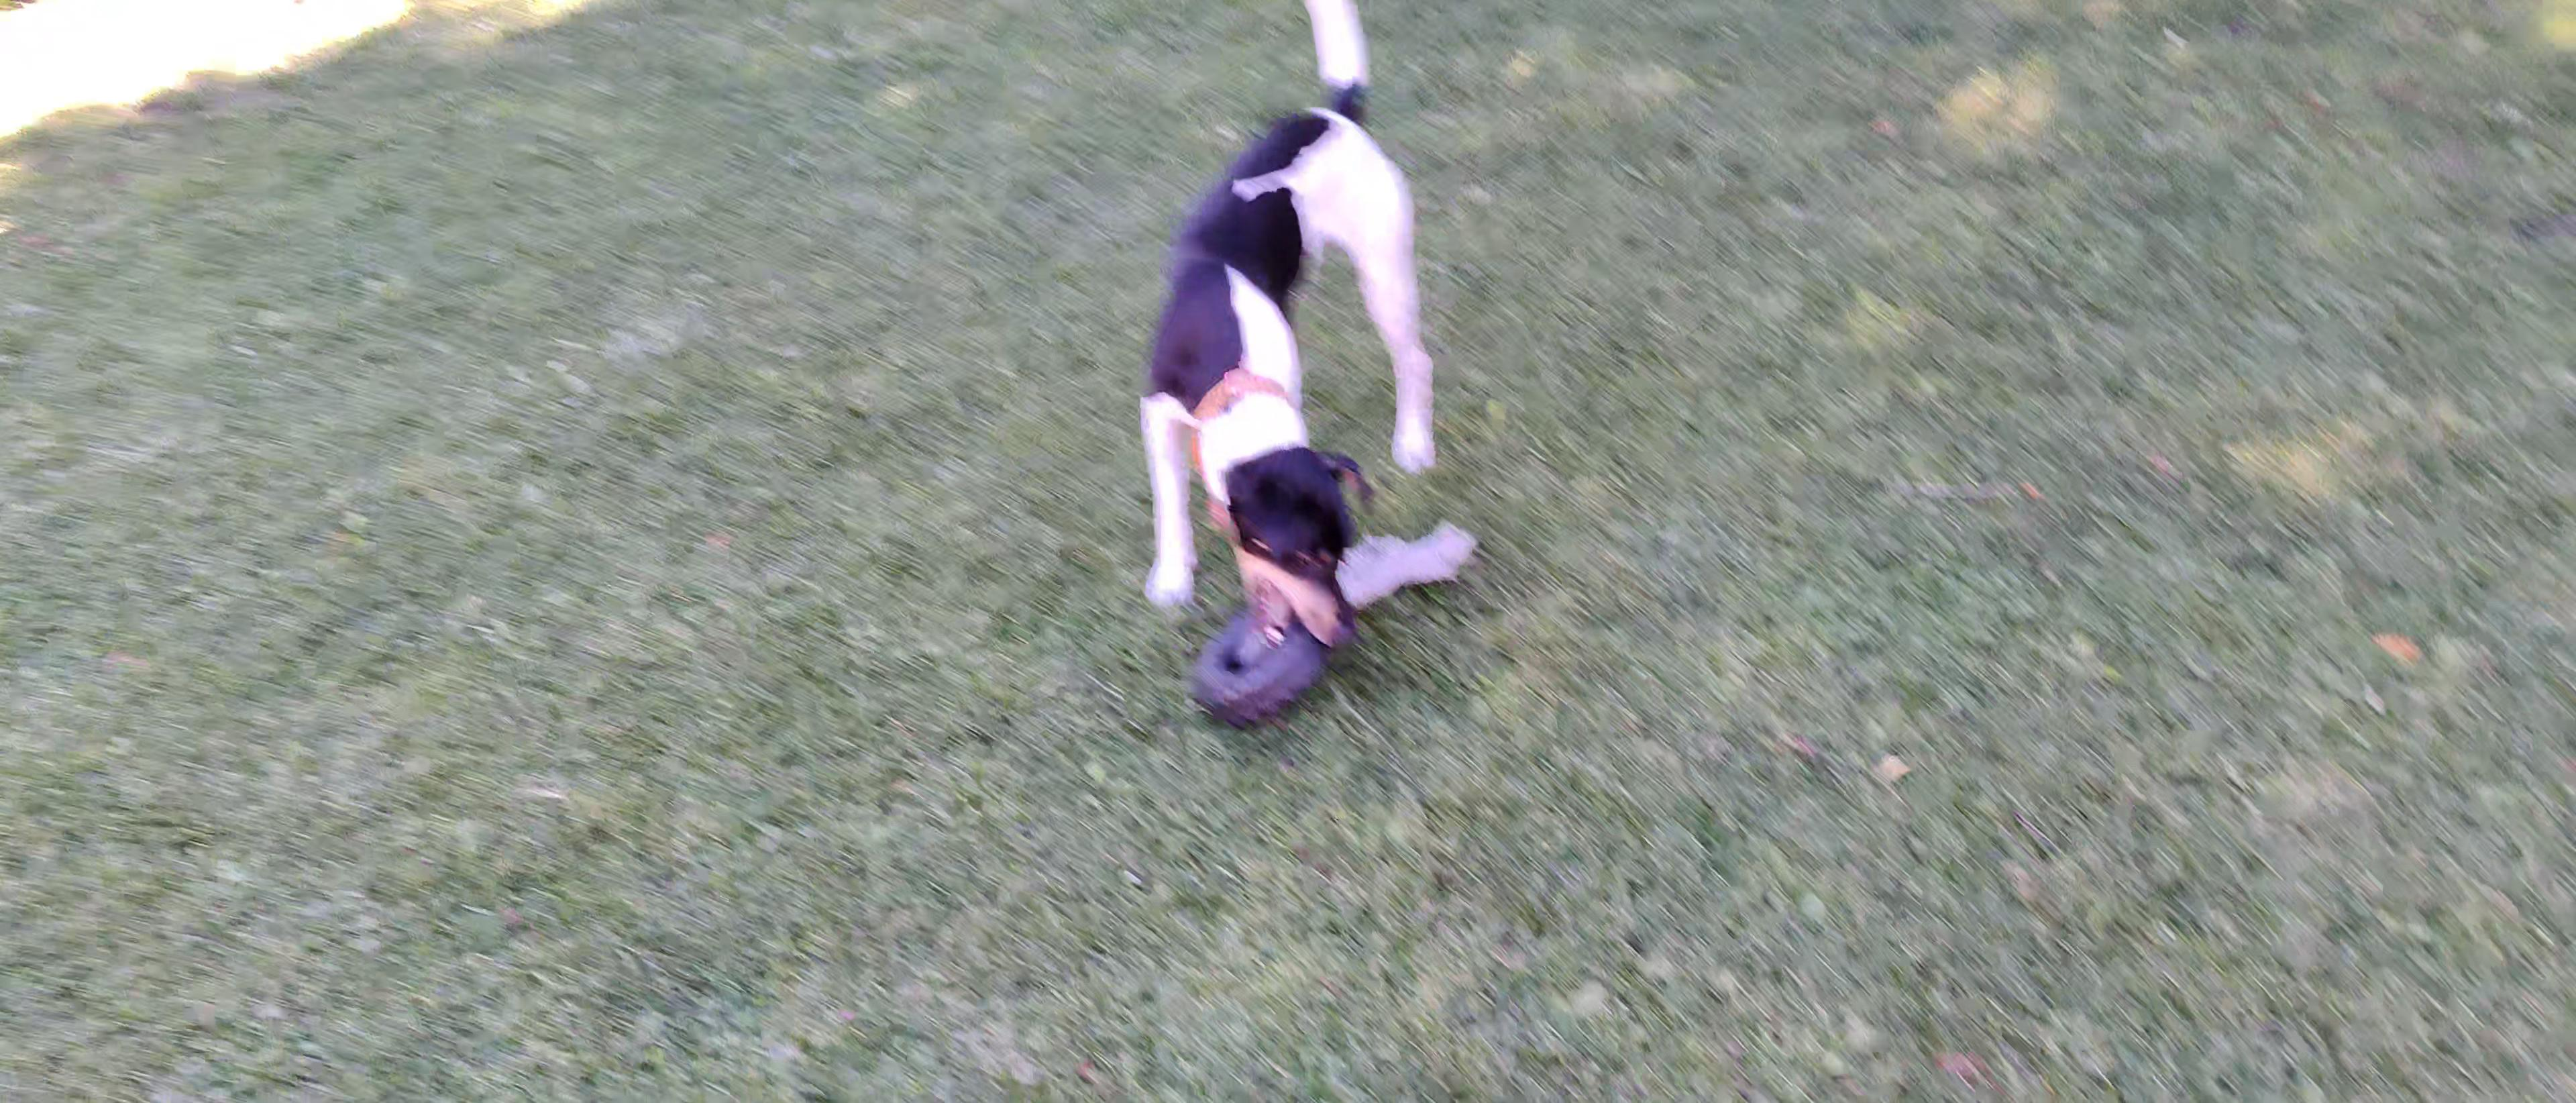Dog: (1106, 0, 1456, 666)
